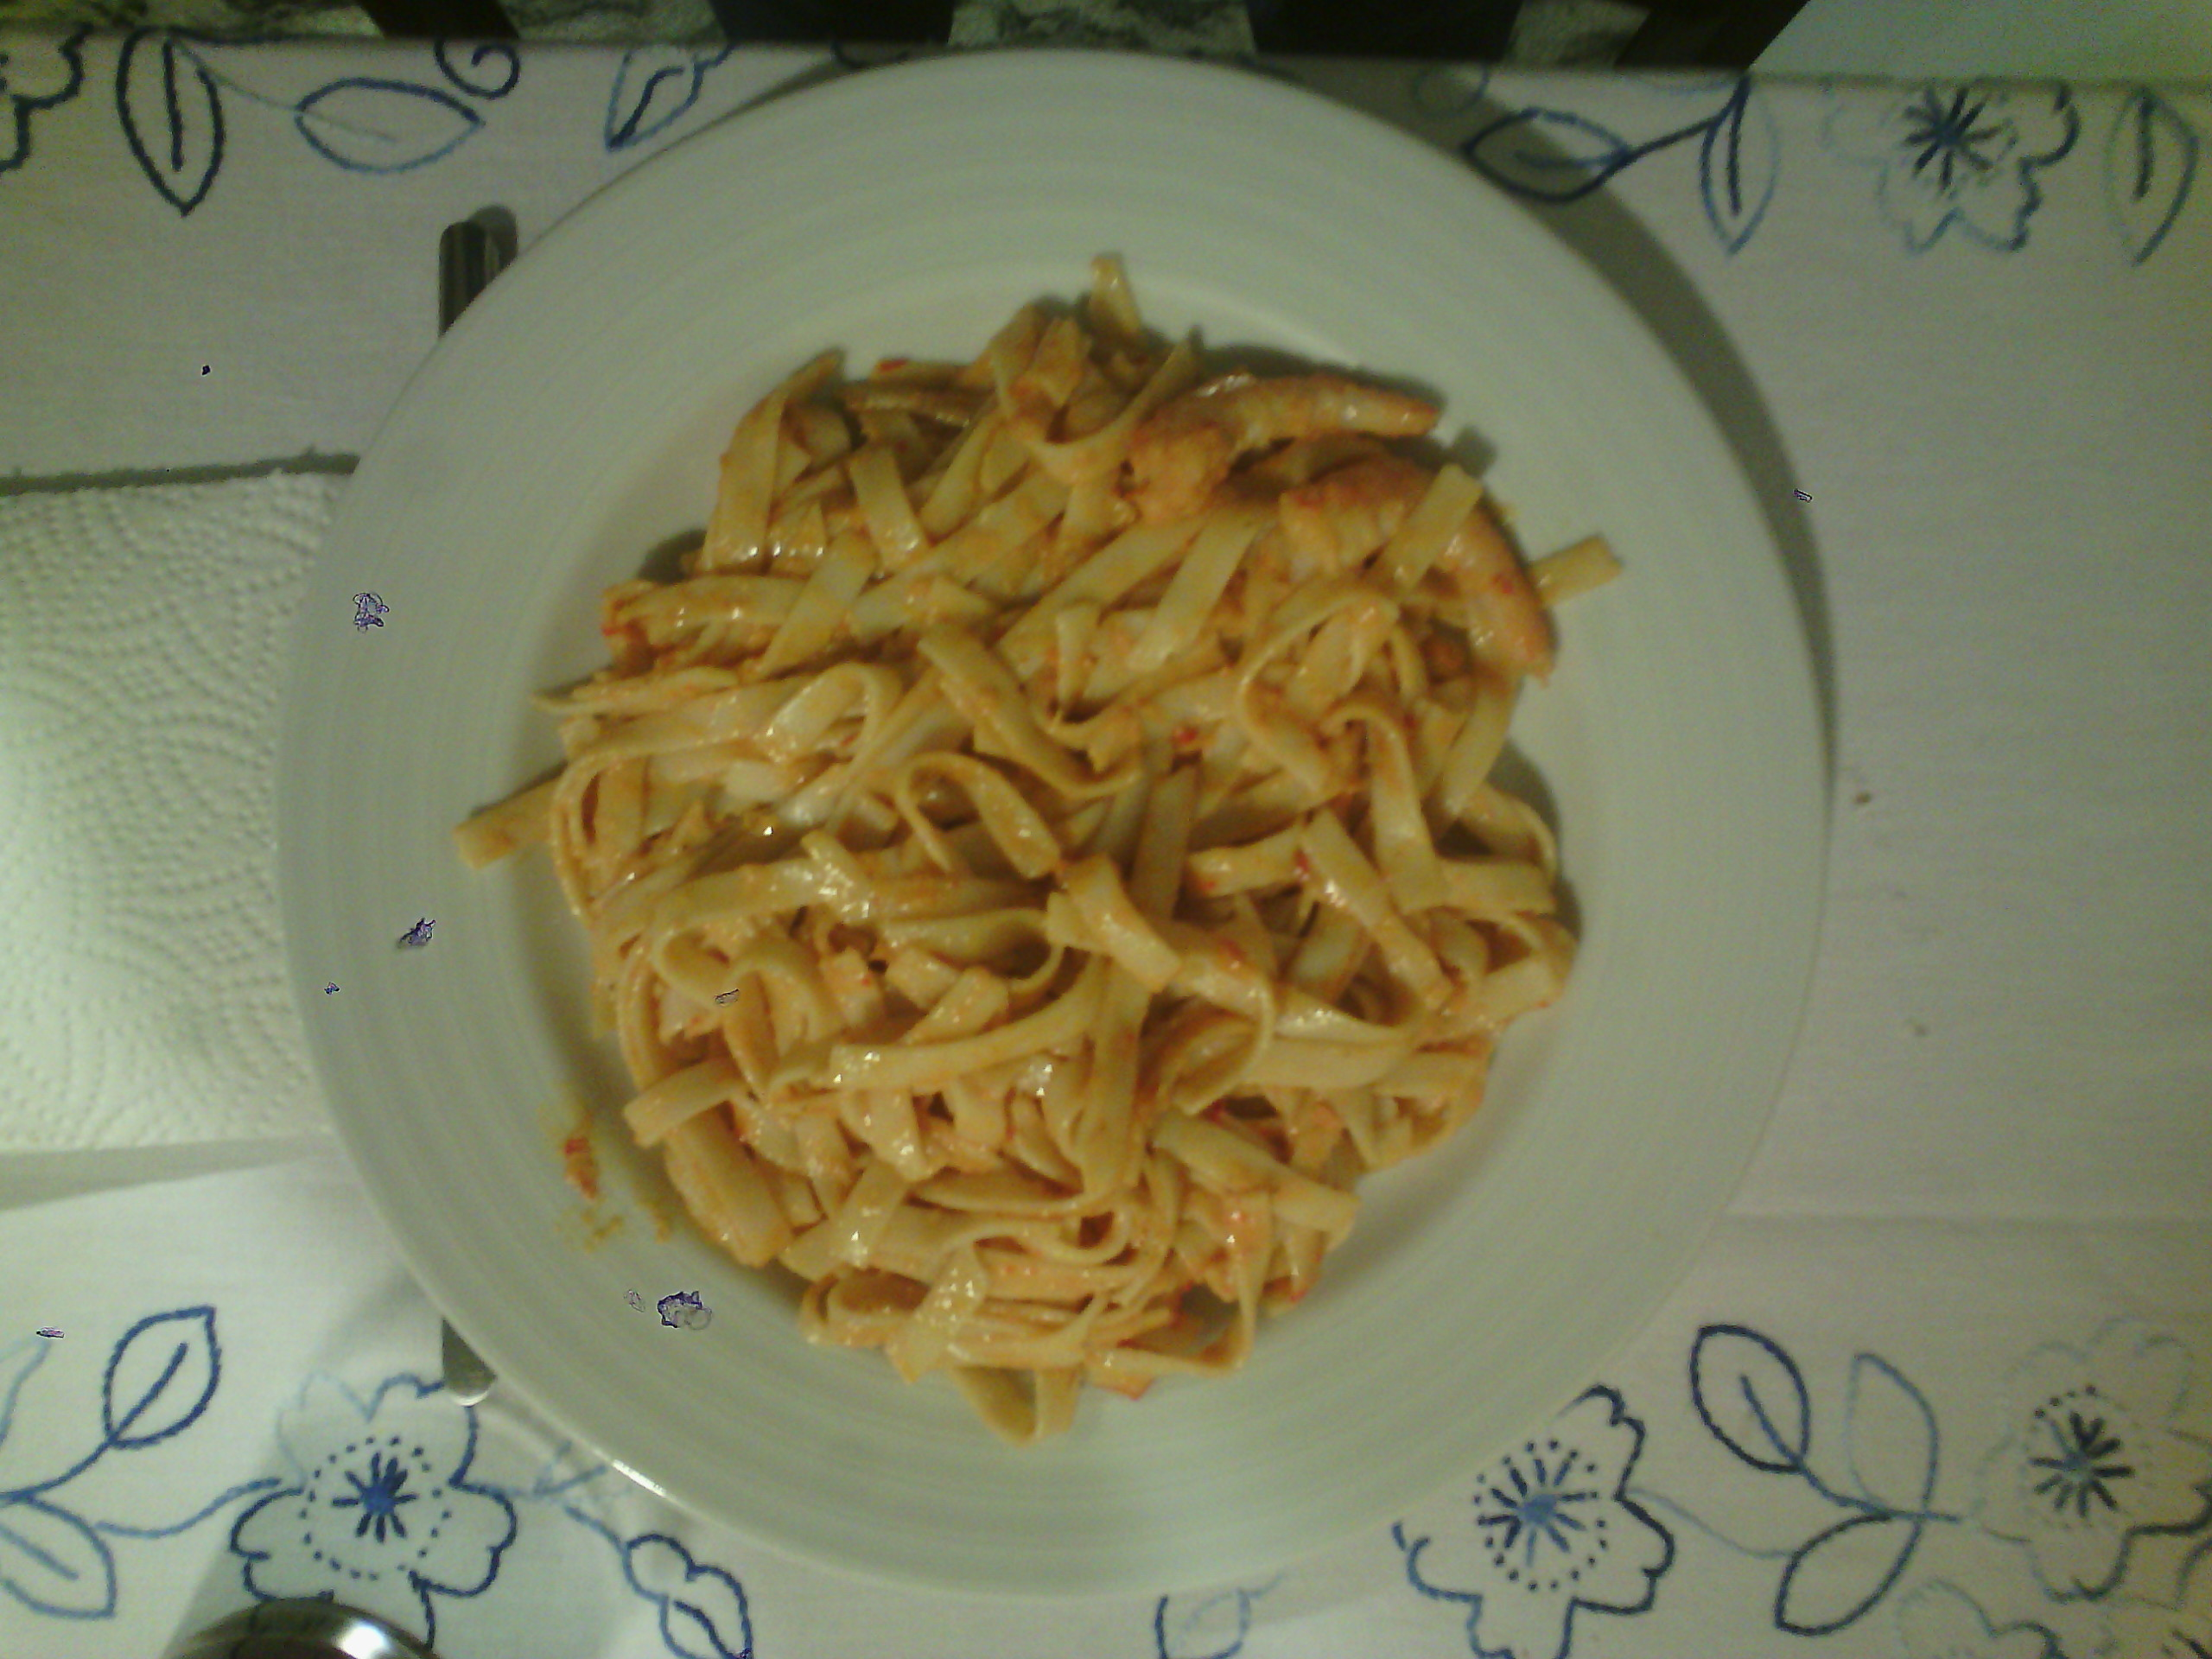81-100: (303, 52, 1836, 1621)
